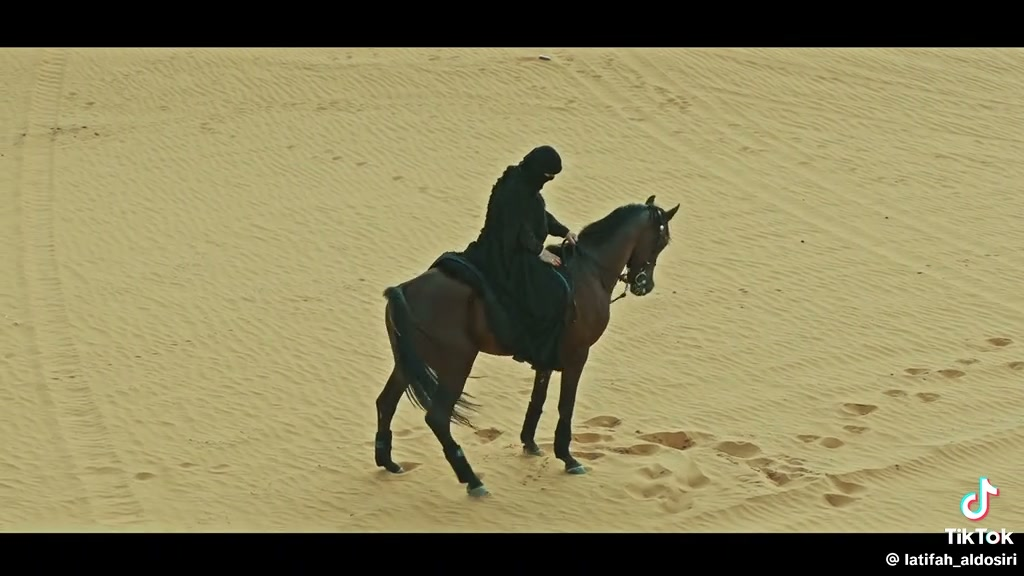animal_footprint: (624, 459, 710, 513), (746, 456, 811, 487), (635, 430, 713, 450), (823, 475, 865, 507), (882, 389, 940, 402), (903, 367, 965, 379), (967, 336, 1013, 352), (796, 434, 844, 448), (839, 402, 877, 417), (584, 416, 621, 428), (474, 427, 502, 442), (842, 424, 869, 434), (1006, 361, 1023, 370)
